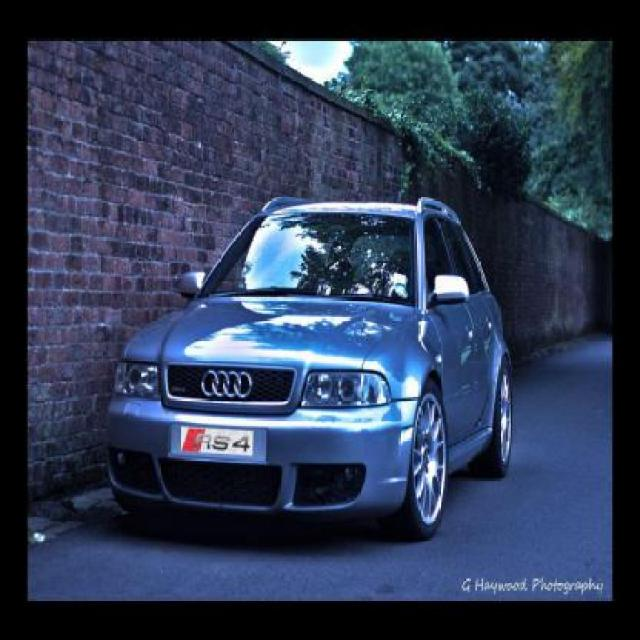License-Plates: (180, 426, 254, 456)
